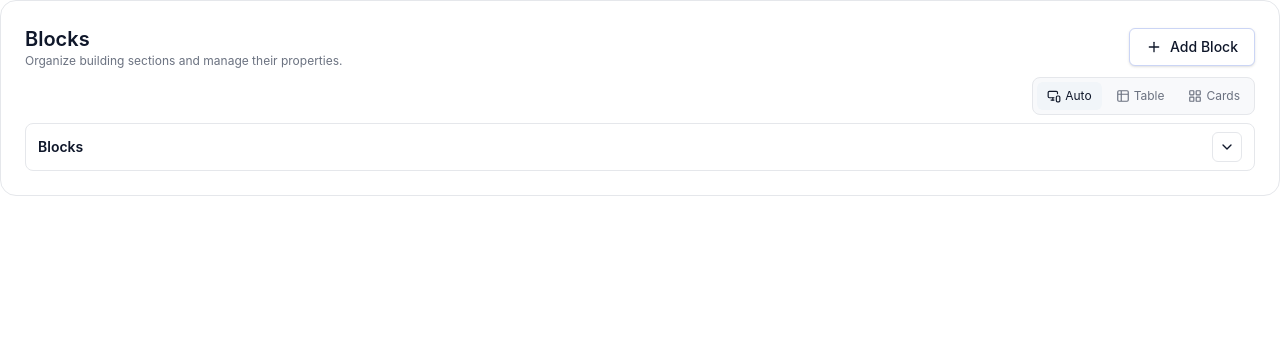
Test: BlocksManager › switches block list layout between cards and table
The image size is (1280, 349).
What coordinates should you click on to do the following:
click the button "Blocks"
I would click on:
 (61, 146)
Its box is [25,123,1255,171].
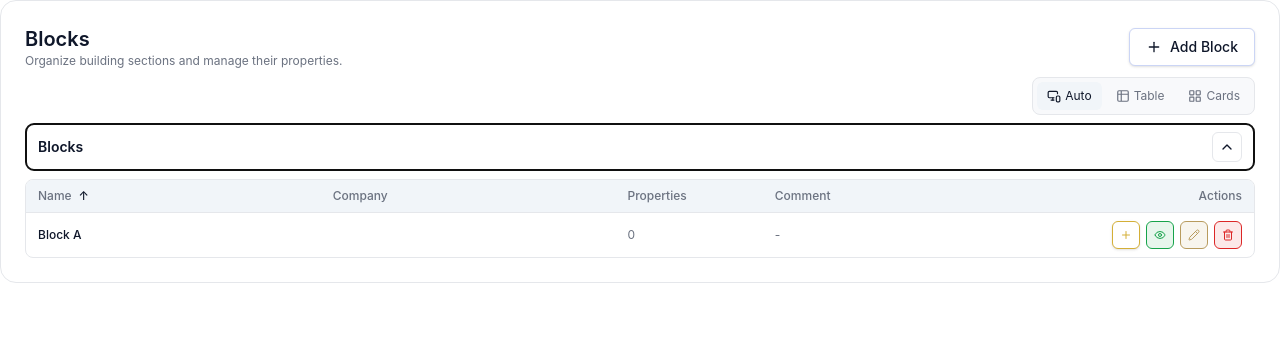
What coordinates should you click on to do the following:
click the button with aria-label "cards layout"
I would click on:
 (1214, 96)
Its box is [1178,82,1250,110].
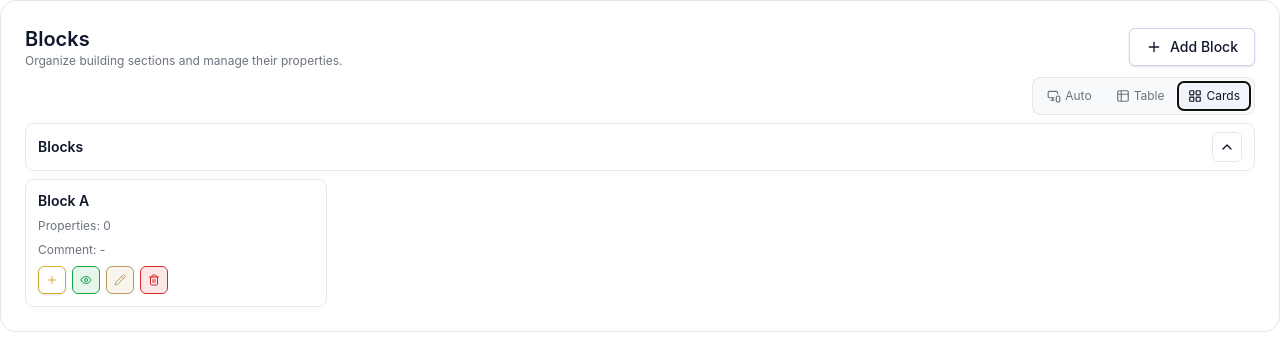
expect the button with aria-label "open details for block a" is shown: met, box [25,179,326,306]
expect the table is gone: met
What coordinates should you click on to do the following:
click the button with aria-label "table layout"
I would click on:
 (1140, 96)
Its box is [1106,82,1174,110].
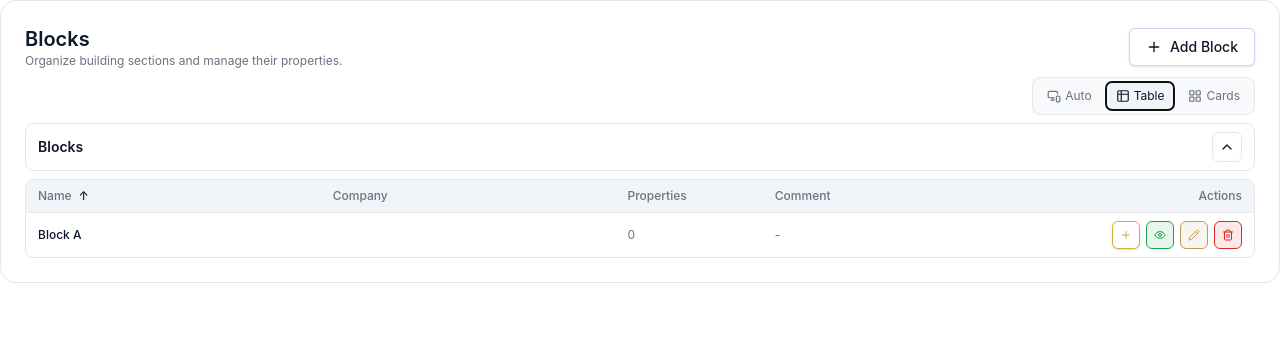
expect the table is shown: met, box [26,180,1254,257]
